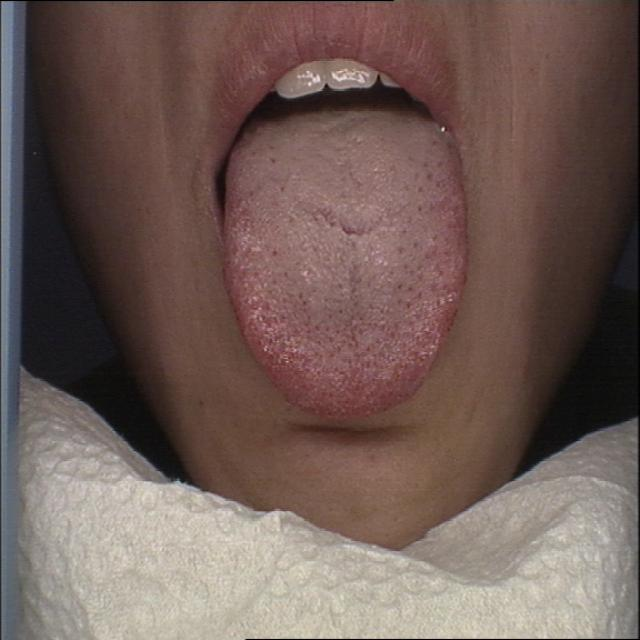tongue: (216, 106, 482, 429)
